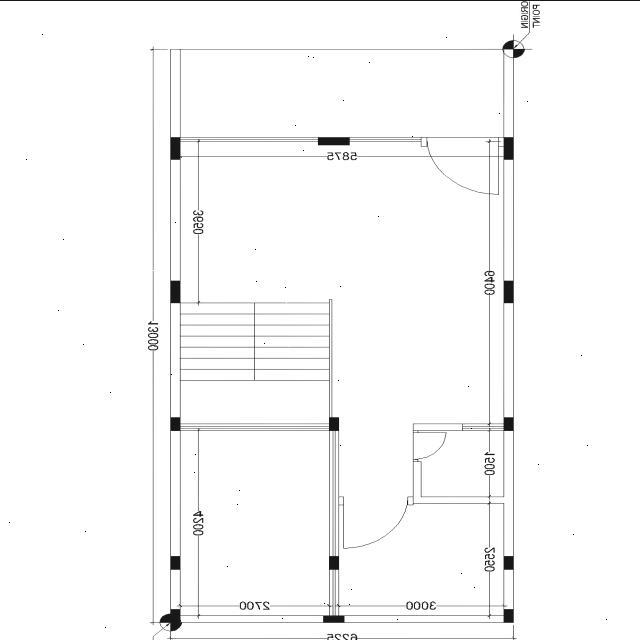Column: (318, 136, 350, 144), (504, 280, 514, 302), (504, 136, 514, 158), (170, 136, 180, 158), (170, 280, 180, 302), (323, 614, 344, 622), (170, 608, 180, 622), (504, 608, 514, 622), (504, 555, 514, 569), (504, 416, 514, 430), (170, 416, 180, 430), (329, 416, 339, 430), (329, 555, 339, 569), (170, 555, 180, 569)
Door: (420, 135, 500, 195), (336, 494, 414, 548), (412, 429, 448, 462)
Staircase: (177, 296, 335, 424)
Window: (461, 422, 505, 431)
